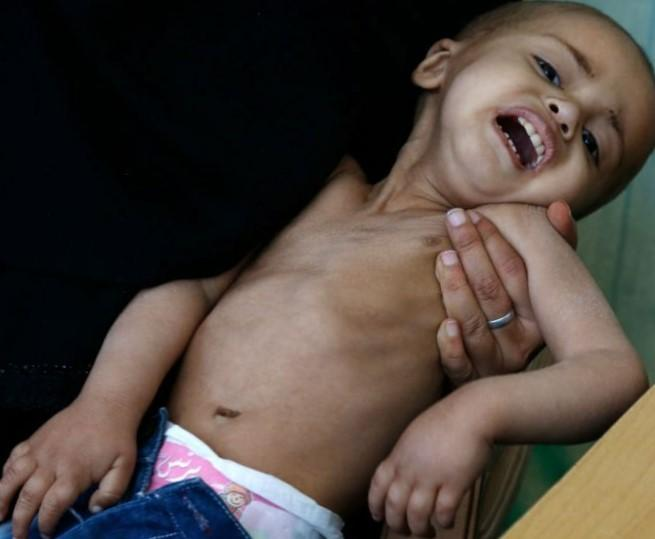MalNutrisi: (366, 0, 655, 253)
